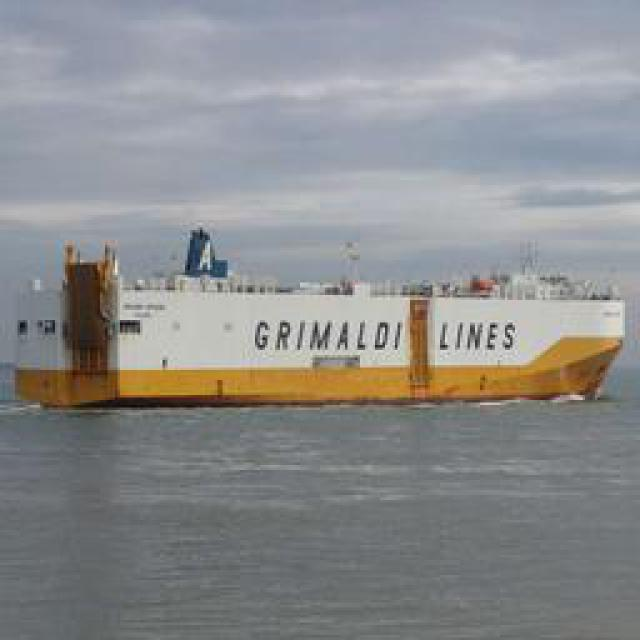Ship: (9, 235, 634, 410)
